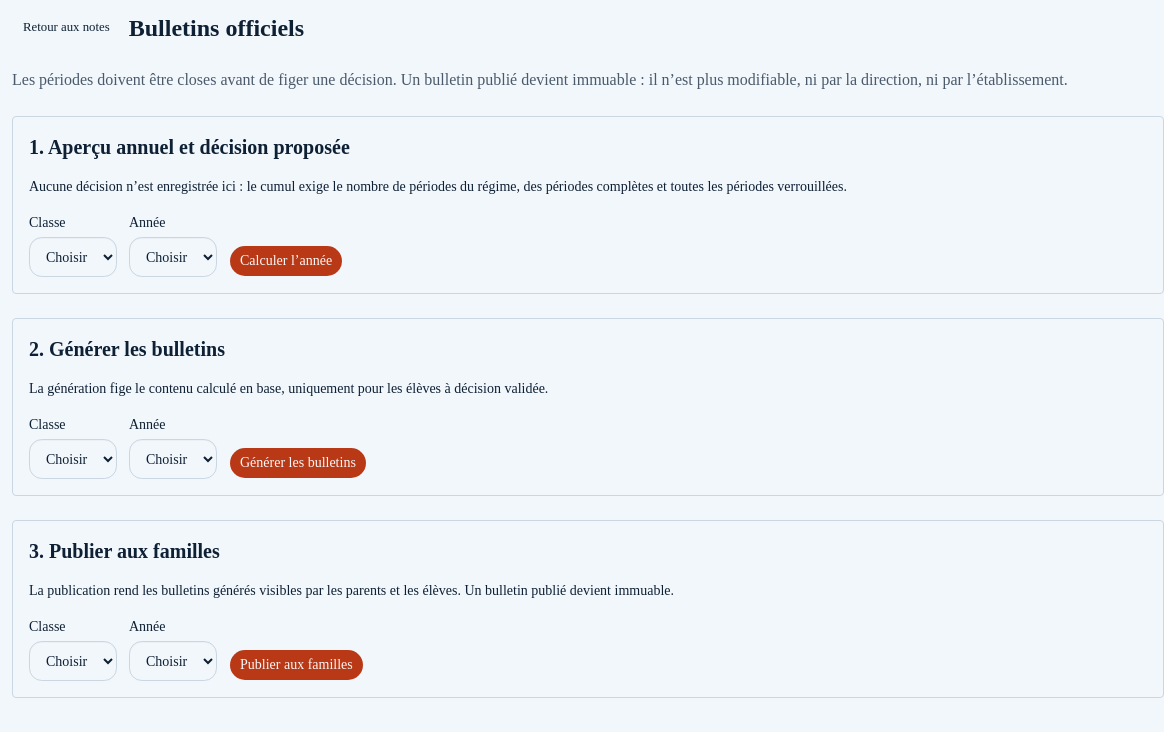
Test: calcule l’année puis propose la décision officielle
Select "CM2" in the dropdown named "classId" at {"x": 73, "y": 257}, box x1=29 y1=237 x2=117 y2=277
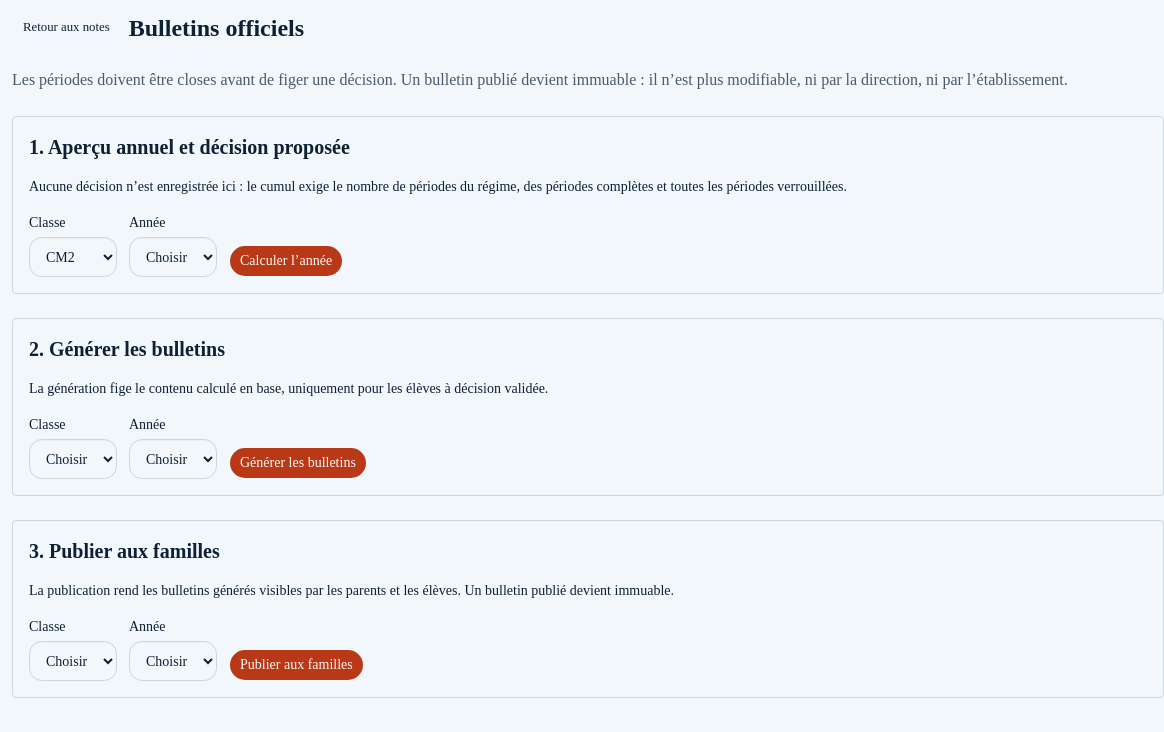
Select "2026" in the dropdown named "academicYearId" at {"x": 173, "y": 257}, box x1=129 y1=237 x2=217 y2=277
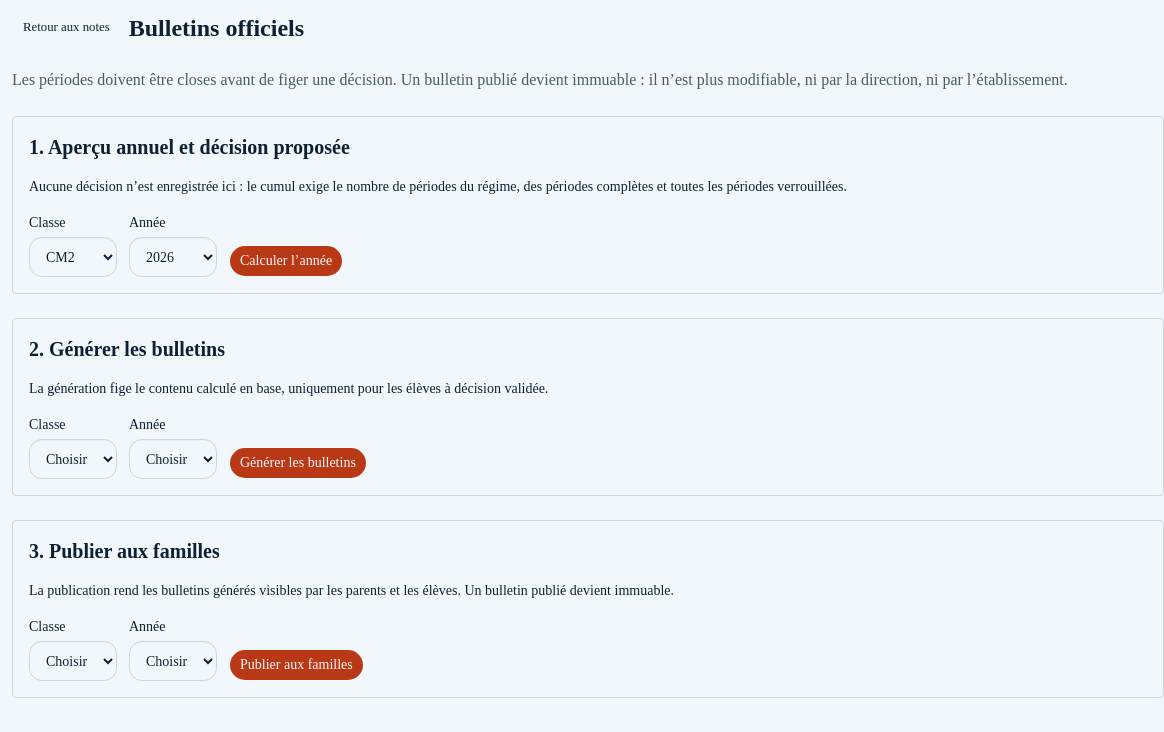
Submit the form "Classe Année Calculer l’année", box x1=29 y1=215 x2=343 y2=277
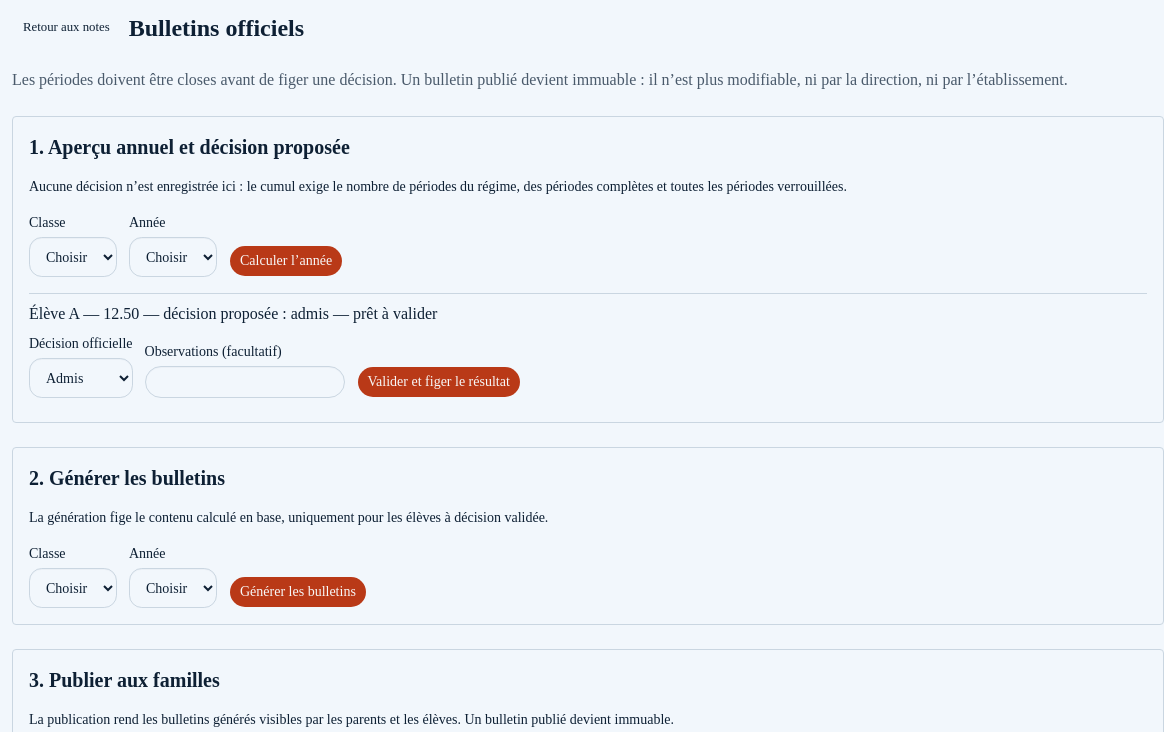
Expected: the text "Élève A" is shown, x1=29 y1=305 x2=79 y2=322
Expected: the text "décision proposée : admis" is shown, x1=29 y1=293 x2=1147 y2=406
Expected: the text "prêt à valider" is shown, x1=329 y1=305 x2=437 y2=322
